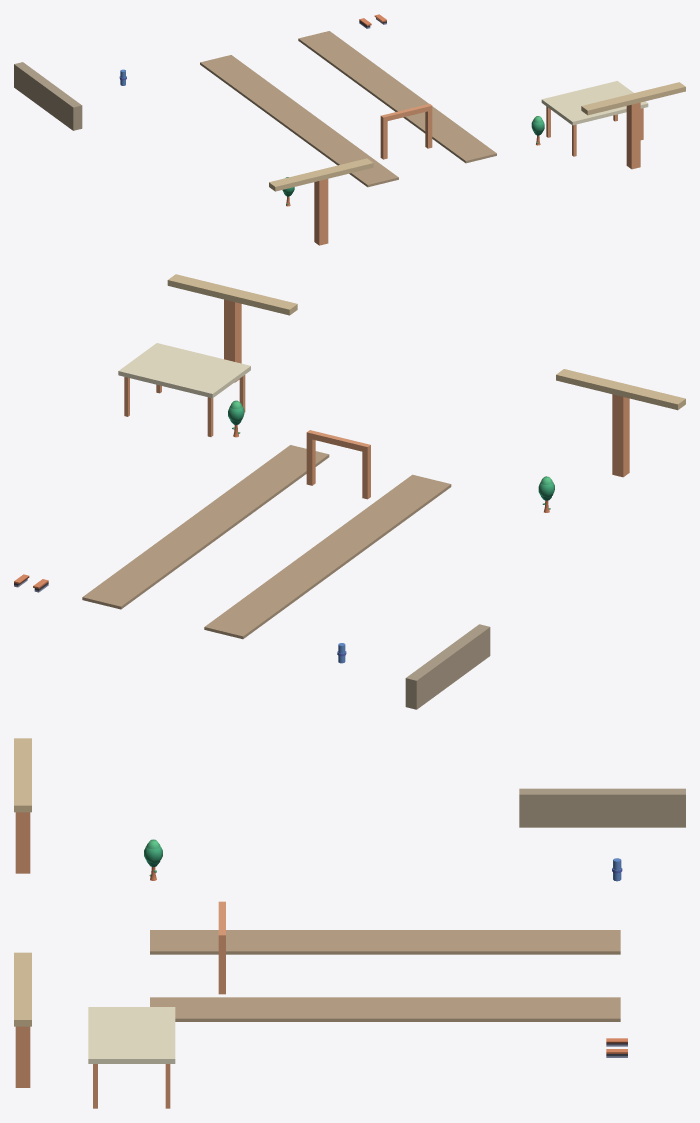
Rendered from gardens-4-1.glb.
3 views of the same model, one above another, from view 1: azimuth 30°, elevation 25°; view 2: azimuth 150°, elevation 25°; view 3: azimuth 270°, elevation 25° (orthographic). The views are drawn at different scales.
Visible parts, largest first — view 1: gardens-4-1; view 2: gardens-4-1; view 3: gardens-4-1.
Part boxes in pixels (box(x1,y1,x2,y2)): gardens-4-1: box(14, 14, 685, 245); gardens-4-1: box(14, 274, 685, 709); gardens-4-1: box(14, 738, 685, 1108).
Bounding box in the file's own units: 194 × 30 × 186.
9 materials, 4 textured.
